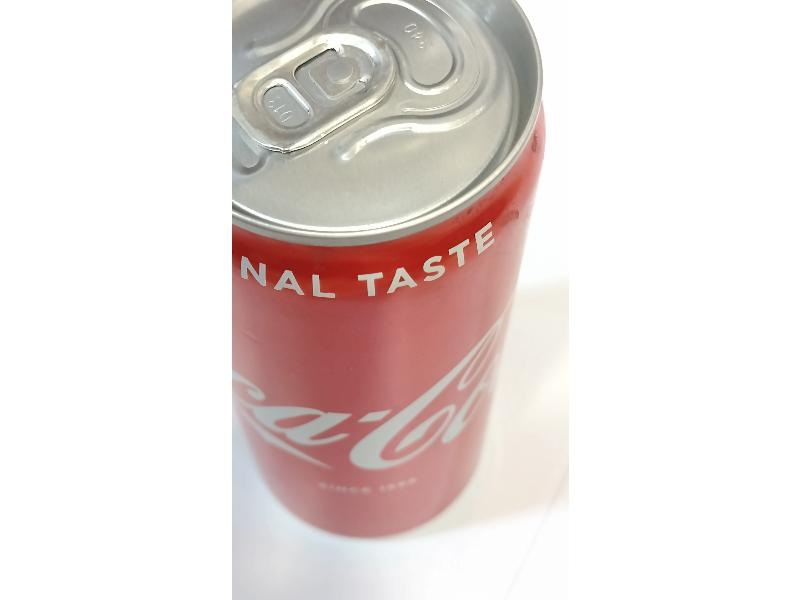can: (235, 2, 551, 547)
